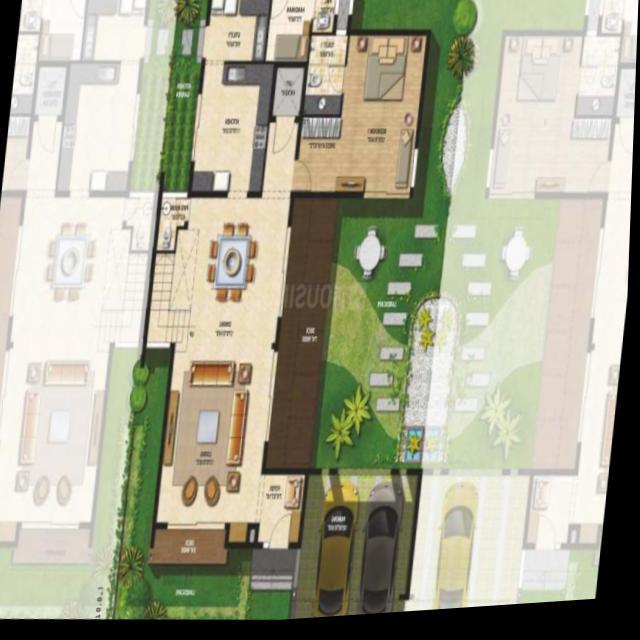Bedroom: (297, 122, 421, 202), (341, 41, 426, 122)
Dining: (205, 217, 266, 314)
Kitchen: (195, 72, 272, 189)
Living: (160, 353, 278, 530)
Toilet: (305, 41, 347, 119)
Utility: (204, 0, 270, 63)
